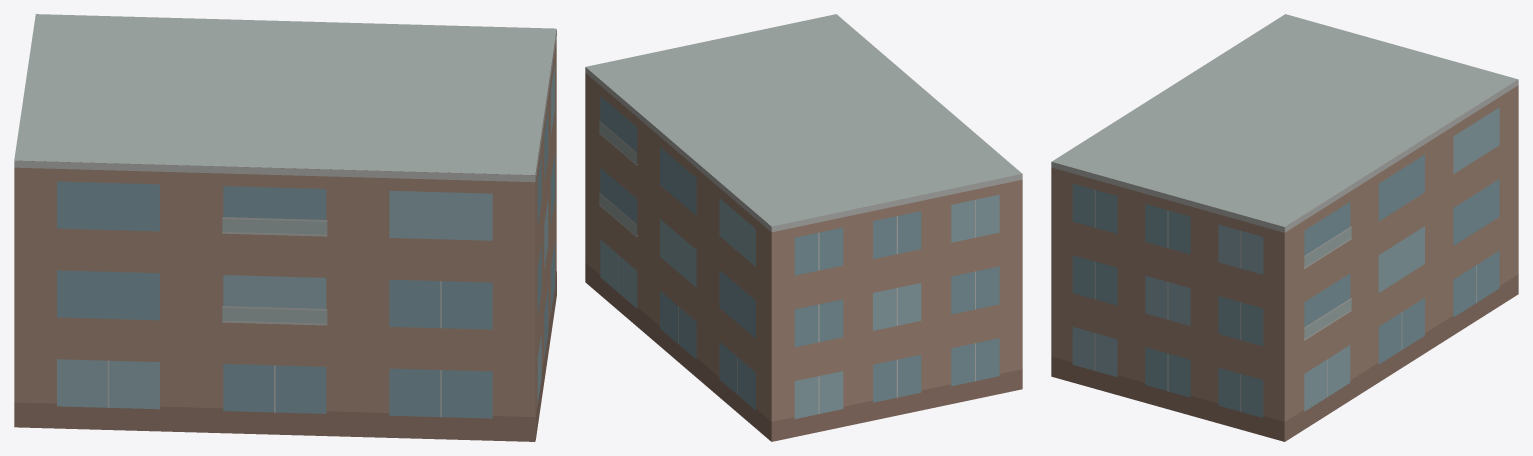
File: survey-upis-32913724.glb
3 views of the same model, side by side, from view 1: azimuth 30°, elevation 25°; view 2: azimuth 150°, elevation 25°; view 3: azimuth 270°, elevation 25° (orthographic). The views are drawn at different scales.
Parts seen in each view (by area): view 1: survey-upis-32913724.tmp; view 2: survey-upis-32913724.tmp; view 3: survey-upis-32913724.tmp.
Part boxes in pixels (x1,y1,x2,y2): survey-upis-32913724.tmp: (14, 14, 556, 441); survey-upis-32913724.tmp: (585, 14, 1022, 441); survey-upis-32913724.tmp: (1051, 14, 1518, 441).
Size of the model in its own units: 19.48 by 9.15 by 18.04.
